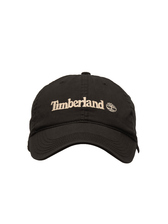other: (21, 69, 146, 164)
